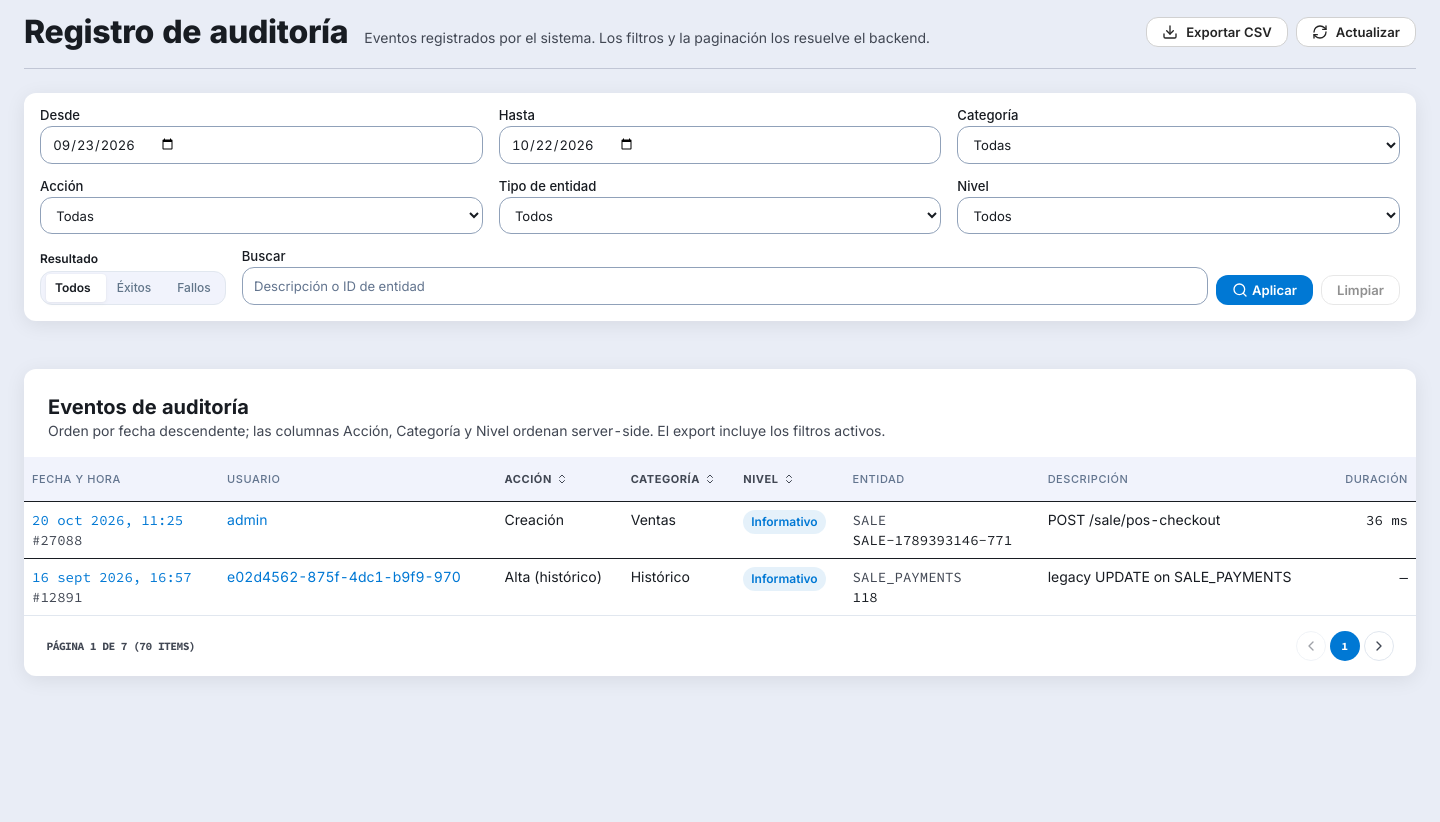
Test: AuditLogsPage (F10) › si el export falla muestra el aviso localizado
Expected: the table with test id "audit-logs-table" is shown, [24, 457, 1416, 615]
Click the button with test id "audit-export" at point(1217, 32), box [1146, 17, 1288, 47]
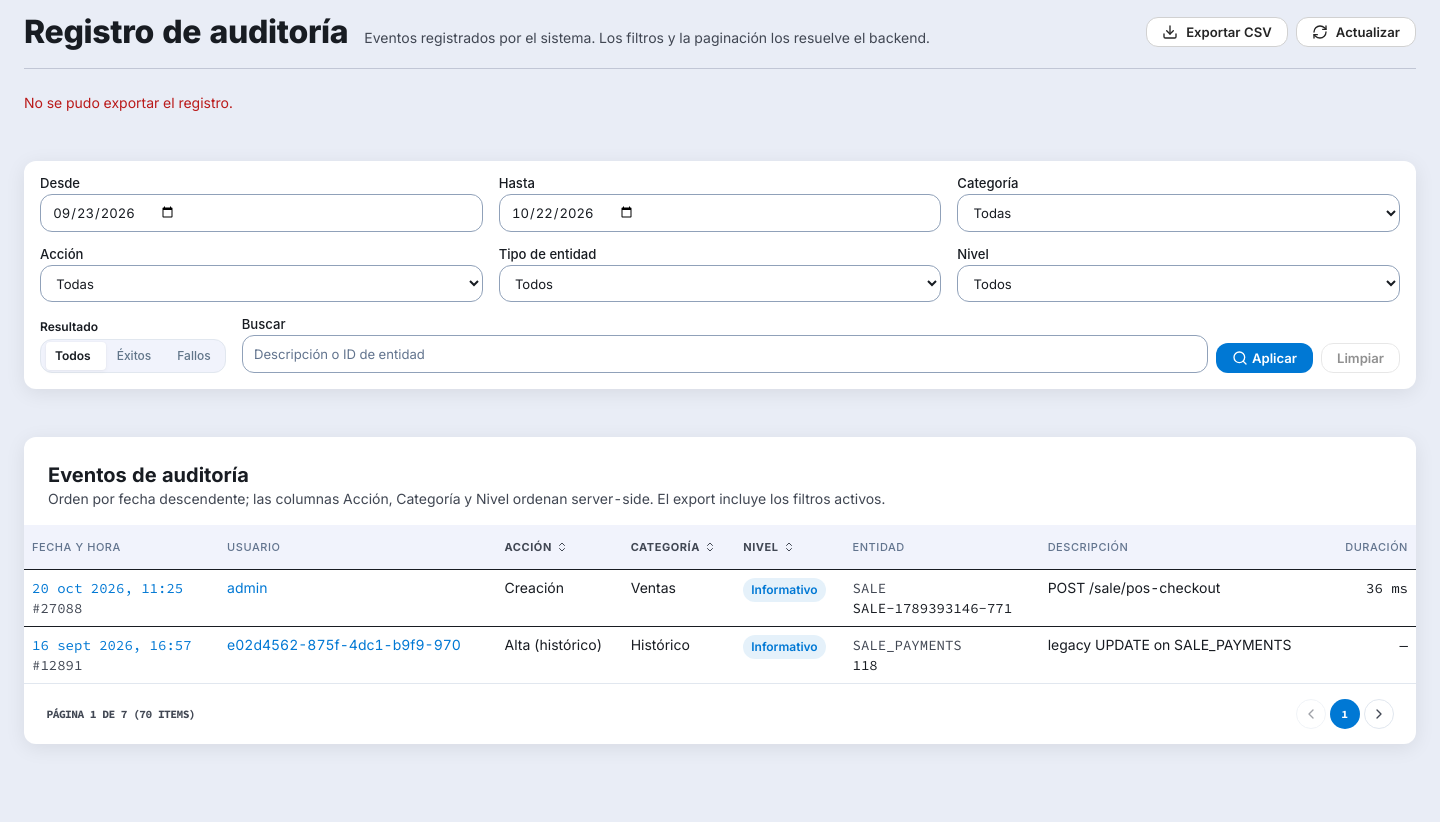
Expected: the message "No se pudo exportar el registro." is shown, [24, 94, 233, 111]
